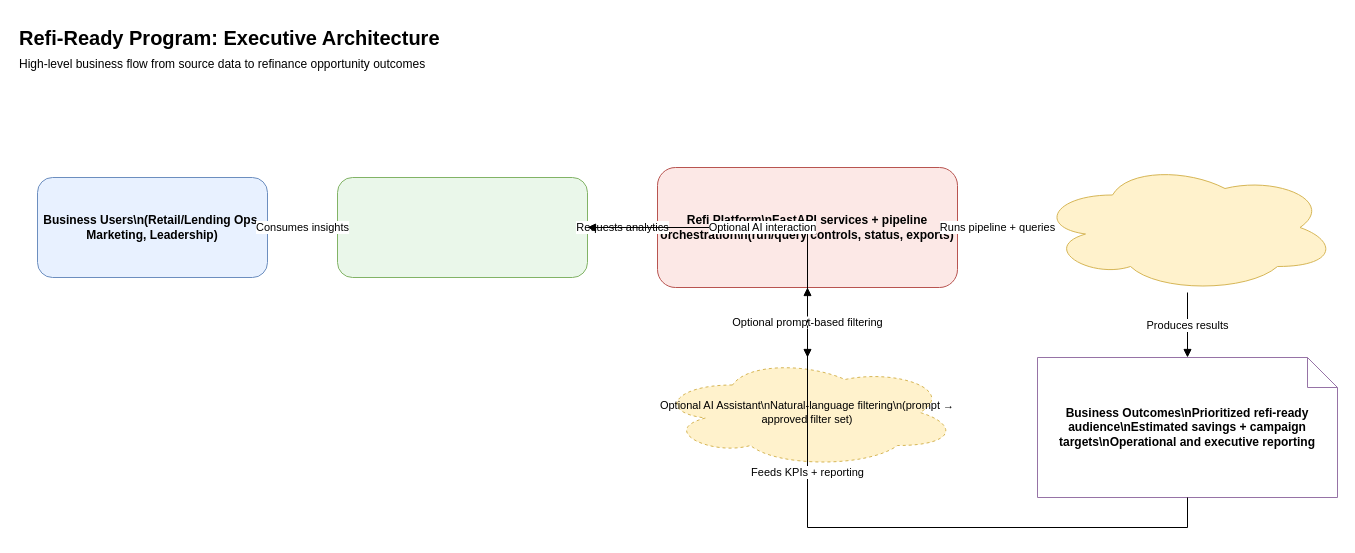
Image size: 1355x553. Some labels were removed from this diagram. Each missing label, with the centre of its shape:
AWS Data & Analytics\nS3, Glue, Entity Resolution, Athena\n(optional QuickSight): pixel 1187 227
Executive Dashboard\nRefinance KPIs, trends, and\nopportunity segments: pixel 462 227
